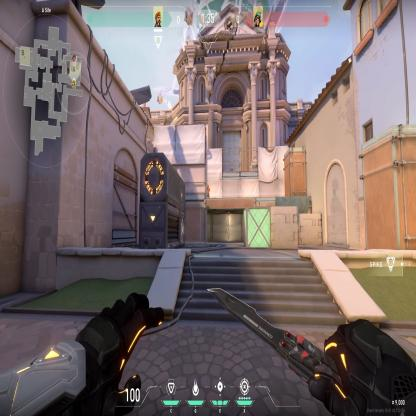enemy: (207, 183, 210, 199)
